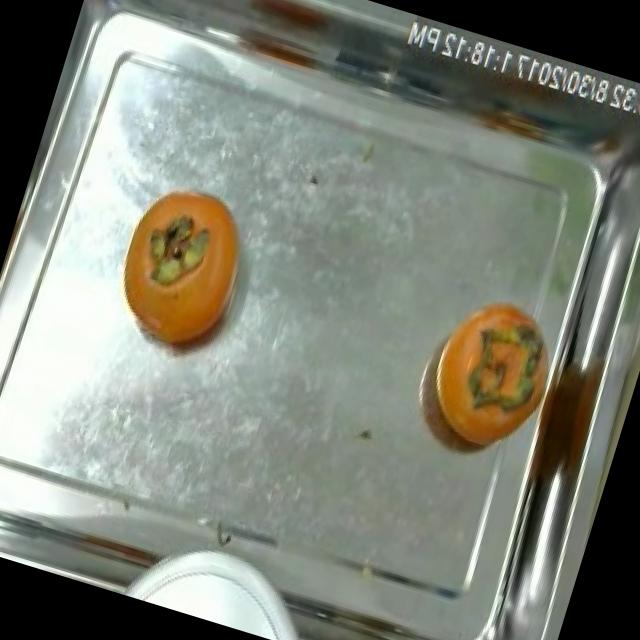Fruit: (92, 160, 277, 380), (400, 272, 566, 480)
